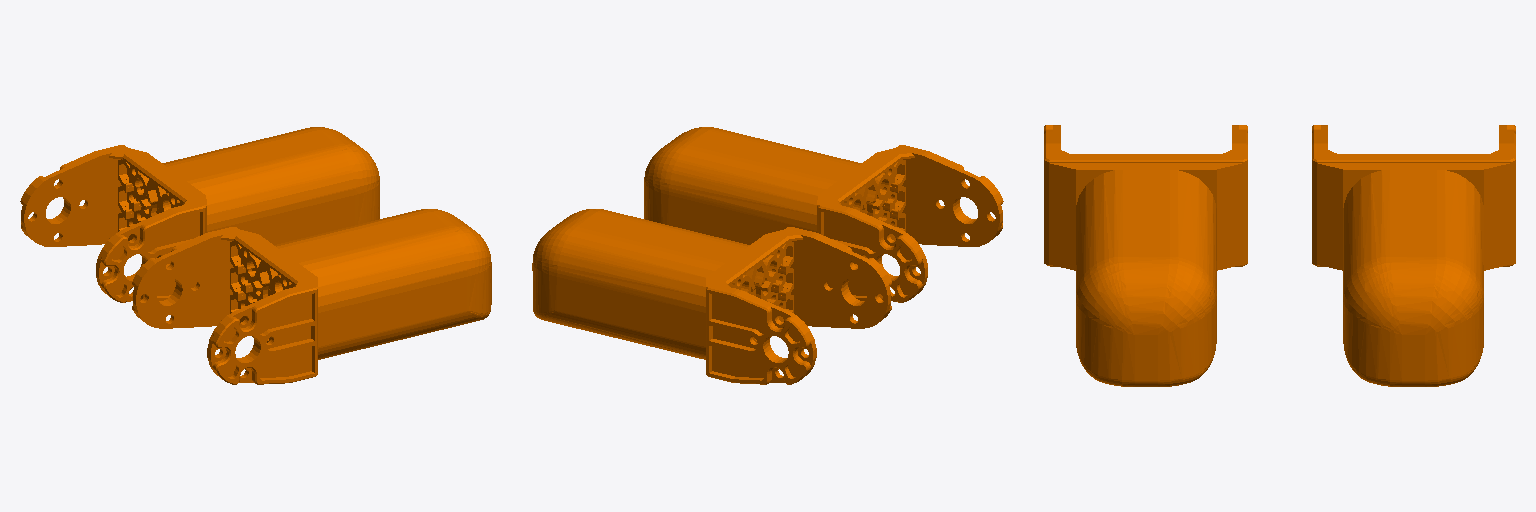
robot.urdf — onshape:
<robot name="onshape">
  <link name="palm_lower">
    <inertial>
      <origin xyz="0.0 0.0 0.0" rpy="0.0 -0.0 0.0"/>
      <mass value="0.237"/>
      <inertia ixx="0.000354094" ixy="-1.193e-06" ixz="-2.445e-06" iyy="0.000260915" iyz="-2.905e-06" izz="0.000529257"/>
    </inertial>
    <visual>
      <geometry>
        <mesh filename="../assets/leap/leap_hand/palm_lower.stl"/>
      </geometry>
      <origin xyz="-0.020095249652862544 0.025757756134899473 -0.034722403578460216" rpy="0.0 -0.0 0.0"/>
      <material name="palm_lower_material">
        <color rgba="0.6039215686274509 0.14901960784313725 0.14901960784313725 1.0"/>
      </material>
    </visual>
    <collision>
      <geometry>
        <mesh filename="../assets/leap/leap_hand/palm_lower.stl"/>
      </geometry>
      <origin xyz="-0.020095249652862544 0.025757756134899473 -0.034722403578460216" rpy="0.0 -0.0 0.0"/>
    </collision>
  </link>
  <link name="mcp_joint">
    <inertial>
      <origin xyz="0.0 0.0 0.0" rpy="0.0 -0.0 0.0"/>
      <mass value="0.044"/>
      <inertia ixx="1.1499e-05" ixy="3.049e-06" ixz="1.21e-07" iyy="7.796e-06" iyz="1.12e-07" izz="1.4759e-05"/>
    </inertial>
    <visual>
      <geometry>
        <mesh filename="../assets/leap/leap_hand/mcp_joint.stl"/>
      </geometry>
      <origin xyz="0.008406902261174496 0.0077662438597169954 0.014657354985032912" rpy="1.6375789613221e-15 -1.021047330249102e-30 1.7177968783327987e-31"/>
      <material name="mcp_joint_material">
        <color rgba="0.8666666666666667 0.8666666666666667 0.050980392156862744 1.0"/>
      </material>
    </visual>
    <collision>
      <geometry>
        <mesh filename="../assets/leap/leap_hand/mcp_joint.stl"/>
      </geometry>
      <origin xyz="0.008406902261174496 0.0077662438597169954 0.014657354985032912" rpy="1.6375789613221e-15 -1.021047330249102e-30 1.7177968783327987e-31"/>
    </collision>
  </link>
  <link name="pip">
    <inertial>
      <origin xyz="0.0 0.0 0.0" rpy="0.0 -0.0 0.0"/>
      <mass value="0.032"/>
      <inertia ixx="4.798e-06" ixy="1.2e-08" ixz="4e-09" iyy="2.862e-06" iyz="1.1e-08" izz="4.234e-06"/>
    </inertial>
    <visual>
      <geometry>
        <mesh filename="../assets/leap/leap_hand/pip.stl"/>
      </geometry>
      <origin xyz="0.009643363092271328 0.0002999999999999895 0.0007840340104173765" rpy="-1.5707963267948966 -1.5707963267948963 0.0"/>
      <material name="pip_material">
        <color rgba="0.7490196078431373 0.7490196078431373 0.7490196078431373 1.0"/>
      </material>
    </visual>
    <collision>
      <geometry>
        <mesh filename="../assets/leap/leap_hand/pip.stl"/>
      </geometry>
      <origin xyz="0.009643363092271328 0.0002999999999999895 0.0007840340104173765" rpy="-1.5707963267948966 -1.5707963267948963 0.0"/>
    </collision>
  </link>
  <link name="dip">
    <inertial>
      <origin xyz="0.0 0.0 0.0" rpy="0.0 -0.0 0.0"/>
      <mass value="0.037"/>
      <inertia ixx="5.542e-06" ixy="-6.07e-07" ixz="-1.7e-08" iyy="5.727e-06" iyz="-2.3e-08" izz="6.682e-06"/>
    </inertial>
    <visual>
      <geometry>
        <mesh filename="../assets/leap/leap_hand/dip.stl"/>
      </geometry>
      <origin xyz="0.021133352895225003 -0.00843211914670488 0.00978508816209524" rpy="-3.141592653589793 4.507511124216441e-32 4.439548105392361e-32"/>
      <material name="dip_material">
        <color rgba="0.8666666666666667 0.8666666666666667 0.050980392156862744 1.0"/>
      </material>
    </visual>
    <collision>
      <geometry>
        <mesh filename="../assets/leap/leap_hand/dip.stl"/>
      </geometry>
      <origin xyz="0.021133352895225003 -0.00843211914670488 0.00978508816209524" rpy="-3.141592653589793 4.507511124216441e-32 4.439548105392361e-32"/>
    </collision>
  </link>
  <link name="fingertip_long">
    <inertial>
      <origin xyz="0.0 0.0 0.0" rpy="0.0 -0.0 0.0"/>
      <mass value="0.016"/>
      <inertia ixx="3.368e-06" ixy="1.15e-07" ixz="0.0" iyy="1.556e-06" iyz="0.0" izz="2.863e-06"/>
    </inertial>
    <visual>
      <geometry>
        <mesh filename="custom_models/fingertip_long.stl"/>
      </geometry>
      <origin xyz="0.013286424108533503 -0.006114238386541987 0.014499999999999498" rpy="3.141592653589793 1.1993117970061735e-33 4.439548105392361e-32"/>
      <material name="fingertip_material">
        <color rgba="0.878 0.467 0.0 1.0"/>
      </material>
    </visual>
    <collision>
      <geometry>
        <mesh filename="custom_models/fingertip_long.stl"/>
      </geometry>
      <origin xyz="0.013286424108533503 -0.006114238386541987 0.014499999999999498" rpy="3.141592653589793 1.1993117970061735e-33 4.439548105392361e-32"/>
    </collision>
  </link>
  <link name="pip_4">
    <inertial>
      <origin xyz="0.0 0.0 0.0" rpy="0.0 -0.0 0.0"/>
      <mass value="0.032"/>
      <inertia ixx="4.798e-06" ixy="1.2e-08" ixz="4e-09" iyy="2.862e-06" iyz="1.1e-08" izz="4.234e-06"/>
    </inertial>
    <visual>
      <geometry>
        <mesh filename="../assets/leap/leap_hand/pip.stl"/>
      </geometry>
      <origin xyz="-0.005356636907728671 0.0002999999999999999 0.0007840340104173782" rpy="-1.5707963267948966 -1.5707963267948963 0.0"/>
      <material name="pip_material">
        <color rgba="0.7490196078431373 0.7490196078431373 0.7490196078431373 1.0"/>
      </material>
    </visual>
    <collision>
      <geometry>
        <mesh filename="../assets/leap/leap_hand/pip.stl"/>
      </geometry>
      <origin xyz="-0.005356636907728671 0.0002999999999999999 0.0007840340104173782" rpy="-1.5707963267948966 -1.5707963267948963 0.0"/>
    </collision>
  </link>
  <link name="thumb_pip">
    <inertial>
      <origin xyz="0.0 0.0 0.0" rpy="0.0 -0.0 0.0"/>
      <mass value="0.003"/>
      <inertia ixx="5.93e-07" ixy="0.0" ixz="0.0" iyy="5.49e-07" iyz="0.0" izz="2.24e-07"/>
    </inertial>
    <visual>
      <geometry>
        <mesh filename="../assets/leap/leap_hand/thumb_pip.stl"/>
      </geometry>
      <origin xyz="0.011961920770611187 -5.30825383648903e-16 -0.0158526489566642" rpy="1.5707963267948966 1.6050198443300153e-46 -3.9204996250525193e-59"/>
      <material name="thumb_pip_material">
        <color rgba="0.8666666666666667 0.8666666666666667 0.050980392156862744 1.0"/>
      </material>
    </visual>
    <collision>
      <geometry>
        <mesh filename="../assets/leap/leap_hand/thumb_pip.stl"/>
      </geometry>
      <origin xyz="0.011961920770611187 -5.30825383648903e-16 -0.0158526489566642" rpy="1.5707963267948966 1.6050198443300153e-46 -3.9204996250525193e-59"/>
    </collision>
  </link>
  <link name="thumb_dip">
    <inertial>
      <origin xyz="0.0 0.0 0.0" rpy="0.0 -0.0 0.0"/>
      <mass value="0.038"/>
      <inertia ixx="8.474e-06" ixy="2.41e-07" ixz="2.6e-08" iyy="3.841e-06" iyz="2.5e-08" izz="7.679e-06"/>
    </inertial>
    <visual>
      <geometry>
        <mesh filename="../assets/leap/leap_hand/thumb_dip.stl"/>
      </geometry>
      <origin xyz="0.043968715707239175 0.0579529529737092 -0.008628676449369476" rpy="1.94289029309401e-16 3.27515792264422e-15 1.112375852965736e-46"/>
      <material name="thumb_dip_material">
        <color rgba="0.8666666666666667 0.8666666666666667 0.050980392156862744 1.0"/>
      </material>
    </visual>
    <collision>
      <geometry>
        <mesh filename="../assets/leap/leap_hand/thumb_dip.stl"/>
      </geometry>
      <origin xyz="0.043968715707239175 0.0579529529737092 -0.008628676449369476" rpy="1.94289029309401e-16 3.27515792264422e-15 1.112375852965736e-46"/>
    </collision>
  </link>
  <link name="thumb_fingertip">
    <inertial>
      <origin xyz="0.0 0.0 0.0" rpy="0.0 -0.0 0.0"/>
      <mass value="0.049"/>
      <inertia ixx="2.0372e-05" ixy="-4.89e-07" ixz="-3e-08" iyy="4.336e-06" iyz="-9.7e-08" izz="1.9845e-05"/>
    </inertial>
    <visual>
      <geometry>
        <mesh filename="../assets/leap/leap_hand/thumb_fingertip.stl"/>
      </geometry>
      <origin xyz="0.06255953846266739 0.07845968291139699 0.048992911807332215" rpy="4.379057701015637e-47 -3.33066907387547e-16 1.2042408677791935e-46"/>
      <material name="thumb_fingertip_material">
        <color rgba="0.6039215686274509 0.14901960784313725 0.14901960784313725 1.0"/>
      </material>
    </visual>
    <collision>
      <geometry>
        <mesh filename="../assets/leap/leap_hand/thumb_fingertip.stl"/>
      </geometry>
      <origin xyz="0.06255953846266739 0.07845968291139699 0.048992911807332215" rpy="4.379057701015637e-47 -3.33066907387547e-16 1.2042408677791935e-46"/>
    </collision>
  </link>
  <link name="mcp_joint_2">
    <inertial>
      <origin xyz="0.0 0.0 0.0" rpy="0.0 -0.0 0.0"/>
      <mass value="0.044"/>
      <inertia ixx="1.1499e-05" ixy="3.049e-06" ixz="1.21e-07" iyy="7.796e-06" iyz="1.12e-07" izz="1.4759e-05"/>
    </inertial>
    <visual>
      <geometry>
        <mesh filename="../assets/leap/leap_hand/mcp_joint.stl"/>
      </geometry>
      <origin xyz="0.008406902261174496 0.0077662438597169954 0.014657354985032914" rpy="1.6375789613221e-15 -1.0076465469034e-30 2.1209300131419907e-61"/>
      <material name="mcp_joint_material">
        <color rgba="0.8666666666666667 0.8666666666666667 0.050980392156862744 1.0"/>
      </material>
    </visual>
    <collision>
      <geometry>
        <mesh filename="../assets/leap/leap_hand/mcp_joint.stl"/>
      </geometry>
      <origin xyz="0.008406902261174496 0.0077662438597169954 0.014657354985032914" rpy="1.6375789613221e-15 -1.0076465469034e-30 2.1209300131419907e-61"/>
    </collision>
  </link>
  <link name="pip_2">
    <inertial>
      <origin xyz="0.0 0.0 0.0" rpy="0.0 -0.0 0.0"/>
      <mass value="0.032"/>
      <inertia ixx="4.798e-06" ixy="1.2e-08" ixz="4e-09" iyy="2.862e-06" iyz="1.1e-08" izz="4.234e-06"/>
    </inertial>
    <visual>
      <geometry>
        <mesh filename="../assets/leap/leap_hand/pip.stl"/>
      </geometry>
      <origin xyz="0.009643363092271328 0.0002999999999999947 0.0007840340104173765" rpy="-1.5707963267948966 -1.5707963267948963 0.0"/>
      <material name="pip_material">
        <color rgba="0.7490196078431373 0.7490196078431373 0.7490196078431373 1.0"/>
      </material>
    </visual>
    <collision>
      <geometry>
        <mesh filename="../assets/leap/leap_hand/pip.stl"/>
      </geometry>
      <origin xyz="0.009643363092271328 0.0002999999999999947 0.0007840340104173765" rpy="-1.5707963267948966 -1.5707963267948963 0.0"/>
    </collision>
  </link>
  <link name="dip_2">
    <inertial>
      <origin xyz="0.0 0.0 0.0" rpy="0.0 -0.0 0.0"/>
      <mass value="0.037"/>
      <inertia ixx="5.542e-06" ixy="-6.07e-07" ixz="-1.7e-08" iyy="5.727e-06" iyz="-2.3e-08" izz="6.682e-06"/>
    </inertial>
    <visual>
      <geometry>
        <mesh filename="../assets/leap/leap_hand/dip.stl"/>
      </geometry>
      <origin xyz="0.021133352895225003 -0.008432119146704865 0.009785088162095237" rpy="-3.141592653589793 2.1146933785271956e-32 1.4408183216511869e-31"/>
      <material name="dip_material">
        <color rgba="0.8666666666666667 0.8666666666666667 0.050980392156862744 1.0"/>
      </material>
    </visual>
    <collision>
      <geometry>
        <mesh filename="../assets/leap/leap_hand/dip.stl"/>
      </geometry>
      <origin xyz="0.021133352895225003 -0.008432119146704865 0.009785088162095237" rpy="-3.141592653589793 2.1146933785271956e-32 1.4408183216511869e-31"/>
    </collision>
  </link>
  <link name="fingertip_2_long">
    <inertial>
      <origin xyz="0.0 0.0 0.0" rpy="0.0 -0.0 0.0"/>
      <mass value="0.016"/>
      <inertia ixx="3.368e-06" ixy="1.15e-07" ixz="0.0" iyy="1.556e-06" iyz="0.0" izz="2.863e-06"/>
    </inertial>
    <visual>
      <geometry>
        <mesh filename="custom_models/fingertip_long.stl"/>
      </geometry>
      <origin xyz="0.013286424108533496 -0.006114238386542001 0.014499999999999496" rpy="3.141592653589793 -4.317959788283594e-33 1.4408183216511869e-31"/>
      <material name="fingertip_material">
        <color rgba="0.878 0.467 0.0 1.0"/>
      </material>
    </visual>
    <collision>
      <geometry>
        <mesh filename="custom_models/fingertip_long.stl"/>
      </geometry>
      <origin xyz="0.013286424108533496 -0.006114238386542001 0.014499999999999496" rpy="3.141592653589793 -4.317959788283594e-33 1.4408183216511869e-31"/>
    </collision>
  </link>
  <link name="mcp_joint_3">
    <inertial>
      <origin xyz="0.0 0.0 0.0" rpy="0.0 -0.0 0.0"/>
      <mass value="0.044"/>
      <inertia ixx="1.1499e-05" ixy="3.049e-06" ixz="1.21e-07" iyy="7.796e-06" iyz="1.12e-07" izz="1.4759e-05"/>
    </inertial>
    <visual>
      <geometry>
        <mesh filename="../assets/leap/leap_hand/mcp_joint.stl"/>
      </geometry>
      <origin xyz="0.0084069022611745 0.007766243859716996 0.014657354985032914" rpy="1.6375789613221e-15 -1.0059504988632627e-30 5.729641584552035e-32"/>
      <material name="mcp_joint_material">
        <color rgba="0.8666666666666667 0.8666666666666667 0.050980392156862744 1.0"/>
      </material>
    </visual>
    <collision>
      <geometry>
        <mesh filename="../assets/leap/leap_hand/mcp_joint.stl"/>
      </geometry>
      <origin xyz="0.0084069022611745 0.007766243859716996 0.014657354985032914" rpy="1.6375789613221e-15 -1.0059504988632627e-30 5.729641584552035e-32"/>
    </collision>
  </link>
  <link name="pip_3">
    <inertial>
      <origin xyz="0.0 0.0 0.0" rpy="0.0 -0.0 0.0"/>
      <mass value="0.032"/>
      <inertia ixx="4.798e-06" ixy="1.2e-08" ixz="4e-09" iyy="2.862e-06" iyz="1.1e-08" izz="4.234e-06"/>
    </inertial>
    <visual>
      <geometry>
        <mesh filename="../assets/leap/leap_hand/pip.stl"/>
      </geometry>
      <origin xyz="0.009643363092271331 0.00029999999999998084 0.0007840340104173765" rpy="-1.5707963267948966 -1.5707963267948963 0.0"/>
      <material name="pip_material">
        <color rgba="0.7490196078431373 0.7490196078431373 0.7490196078431373 1.0"/>
      </material>
    </visual>
    <collision>
      <geometry>
        <mesh filename="../assets/leap/leap_hand/pip.stl"/>
      </geometry>
      <origin xyz="0.009643363092271331 0.00029999999999998084 0.0007840340104173765" rpy="-1.5707963267948966 -1.5707963267948963 0.0"/>
    </collision>
  </link>
  <link name="dip_3">
    <inertial>
      <origin xyz="0.0 0.0 0.0" rpy="0.0 -0.0 0.0"/>
      <mass value="0.037"/>
      <inertia ixx="5.542e-06" ixy="-6.07e-07" ixz="-1.7e-08" iyy="5.727e-06" iyz="-2.3e-08" izz="6.682e-06"/>
    </inertial>
    <visual>
      <geometry>
        <mesh filename="../assets/leap/leap_hand/dip.stl"/>
      </geometry>
      <origin xyz="0.021133352895225006 -0.008432119146704865 0.009785088162095237" rpy="-3.141592653589793 -1.4095651113919093e-33 1.5565411607615035e-32"/>
      <material name="dip_material">
        <color rgba="0.8666666666666667 0.8666666666666667 0.050980392156862744 1.0"/>
      </material>
    </visual>
    <collision>
      <geometry>
        <mesh filename="../assets/leap/leap_hand/dip.stl"/>
      </geometry>
      <origin xyz="0.021133352895225006 -0.008432119146704865 0.009785088162095237" rpy="-3.141592653589793 -1.4095651113919093e-33 1.5565411607615035e-32"/>
    </collision>
  </link>
  <link name="fingertip_3">
    <inertial>
      <origin xyz="0.0 0.0 0.0" rpy="0.0 -0.0 0.0"/>
      <mass value="0.016"/>
      <inertia ixx="3.368e-06" ixy="1.15e-07" ixz="0.0" iyy="1.556e-06" iyz="0.0" izz="2.863e-06"/>
    </inertial>
    <visual>
      <geometry>
        <mesh filename="../assets/leap/leap_hand/fingertip.stl"/>
      </geometry>
      <origin xyz="0.013286424108533501 -0.006114238386541987 0.0144999999999995" rpy="3.141592653589793 8.61707169505754e-33 1.5565411607615035e-32"/>
      <material name="fingertip_material">
        <color rgba="0.8666666666666667 0.8666666666666667 0.050980392156862744 1.0"/>
      </material>
    </visual>
    <collision>
      <geometry>
        <mesh filename="../assets/leap/leap_hand/fingertip.stl"/>
      </geometry>
      <origin xyz="0.013286424108533501 -0.006114238386541987 0.0144999999999995" rpy="3.141592653589793 8.61707169505754e-33 1.5565411607615035e-32"/>
    </collision>
  </link>
  <joint name="1" type="revolute">
    <parent link="palm_lower"/>
    <child link="mcp_joint"/>
    <origin xyz="-0.007095249652862546 0.023057756134899472 -0.01872240357846022" rpy="1.570796326794895 1.5707963267948946 0.0"/>
    <axis xyz="0.0 0.0 -1.0"/>
    <limit effort="0.95" velocity="8.48" lower="-0.314" upper="2.23"/>
  </joint>
  <joint name="0" type="revolute">
    <parent link="mcp_joint"/>
    <child link="pip"/>
    <origin xyz="-0.012200000000000008 0.038099999999999995 0.0145" rpy="-1.5707963267948966 -1.0065212660796337e-15 1.5707963267948943"/>
    <axis xyz="0.0 0.0 -1.0"/>
    <limit effort="0.95" velocity="8.48" lower="-1.047" upper="1.047"/>
  </joint>
  <joint name="2" type="revolute">
    <parent link="pip"/>
    <child link="dip"/>
    <origin xyz="0.014999999999999968 0.014299999999999905 -0.012999999999999824" rpy="1.570796326794896 -1.5707963267948963 0.0"/>
    <axis xyz="0.0 0.0 -1.0"/>
    <limit effort="0.95" velocity="8.48" lower="-0.506" upper="1.885"/>
  </joint>
  <joint name="3" type="revolute">
    <parent link="dip"/>
    <child link="fingertip_long"/>
    <origin xyz="-4.088058249557269e-09 -0.03610000421036737 0.0002000000000000786" rpy="4.5935029425113685e-17 -2.8730071914463795e-16 4.439548105392361e-32"/>
    <axis xyz="0.0 0.0 -1.0"/>
    <limit effort="0.95" velocity="8.48" lower="-0.366" upper="2.042"/>
  </joint>
  <joint name="12" type="revolute">
    <parent link="palm_lower"/>
    <child link="pip_4"/>
    <origin xyz="-0.06939524965286253 -0.0012422438651005258 -0.021622403578460216" rpy="-8.238176646493942e-17 1.5707963267948957 0.0"/>
    <axis xyz="0.0 0.0 -1.0"/>
    <limit effort="0.95" velocity="8.48" lower="-0.349" upper="2.094"/>
  </joint>
  <joint name="13" type="revolute">
    <parent link="pip_4"/>
    <child link="thumb_pip"/>
    <origin xyz="-2.7755575615628914e-17 0.014300000000000005 -0.013000000000000012" rpy="1.570796326794896 -1.5707963267948963 0.0"/>
    <axis xyz="0.0 0.0 -1.0"/>
    <limit effort="0.95" velocity="8.48" lower="-0.47" upper="2.443"/>
  </joint>
  <joint name="14" type="revolute">
    <parent link="thumb_pip"/>
    <child link="thumb_dip"/>
    <origin xyz="0.0 0.014499999999999966 -0.017000000000000053" rpy="-1.5707963267948966 1.6050198443300131e-46 -1.9721522630516625e-31"/>
    <axis xyz="0.0 0.0 -1.0"/>
    <limit effort="0.95" velocity="8.48" lower="-1.2" upper="1.9"/>
  </joint>
  <joint name="15" type="revolute">
    <parent link="thumb_dip"/>
    <child link="thumb_fingertip"/>
    <origin xyz="-1.249000902703301e-16 0.046599999999999864 0.0001999999999999771" rpy="1.506395849149178e-44 5.423418723393526e-31 3.141592653589793"/>
    <axis xyz="0.0 0.0 -1.0"/>
    <limit effort="0.95" velocity="8.48" lower="-1.34" upper="1.88"/>
  </joint>
  <joint name="5" type="revolute">
    <parent link="palm_lower"/>
    <child link="mcp_joint_2"/>
    <origin xyz="-0.007095249652862546 -0.022392243865100525 -0.01872240357846022" rpy="1.570796326794895 1.5707963267948946 0.0"/>
    <axis xyz="0.0 0.0 -1.0"/>
    <limit effort="0.95" velocity="8.48" lower="-0.314" upper="2.23"/>
  </joint>
  <joint name="4" type="revolute">
    <parent link="mcp_joint_2"/>
    <child link="pip_2"/>
    <origin xyz="-0.012200000000000008 0.038099999999999995 0.0145" rpy="-1.5707963267948966 -1.0065212660796337e-15 1.5707963267948943"/>
    <axis xyz="0.0 0.0 -1.0"/>
    <limit effort="0.95" velocity="8.48" lower="-1.047" upper="1.047"/>
  </joint>
  <joint name="6" type="revolute">
    <parent link="pip_2"/>
    <child link="dip_2"/>
    <origin xyz="0.014999999999999968 0.014299999999999905 -0.012999999999999824" rpy="1.570796326794896 -1.5707963267948963 0.0"/>
    <axis xyz="0.0 0.0 -1.0"/>
    <limit effort="0.95" velocity="8.48" lower="-0.506" upper="1.885"/>
  </joint>
  <joint name="7" type="revolute">
    <parent link="dip_2"/>
    <child link="fingertip_2_long"/>
    <origin xyz="-4.088058249557269e-09 -0.03610000421036737 0.0002000000000000786" rpy="4.5935029425113685e-17 -2.8730071914463795e-16 4.439548105392361e-32"/>
    <axis xyz="0.0 0.0 -1.0"/>
    <limit effort="0.95" velocity="8.48" lower="-0.366" upper="2.042"/>
  </joint>
  <joint name="9" type="revolute">
    <parent link="palm_lower"/>
    <child link="mcp_joint_3"/>
    <origin xyz="-0.007095249652862546 -0.06784224386510052 -0.01872240357846022" rpy="1.570796326794895 1.5707963267948946 0.0"/>
    <axis xyz="0.0 0.0 -1.0"/>
    <limit effort="0.95" velocity="8.48" lower="-0.314" upper="2.23"/>
  </joint>
  <joint name="8" type="revolute">
    <parent link="mcp_joint_3"/>
    <child link="pip_3"/>
    <origin xyz="-0.012200000000000008 0.038099999999999995 0.0145" rpy="-1.5707963267948966 -1.0065212660796337e-15 1.5707963267948943"/>
    <axis xyz="0.0 0.0 -1.0"/>
    <limit effort="0.95" velocity="8.48" lower="-1.047" upper="1.047"/>
  </joint>
  <joint name="10" type="revolute">
    <parent link="pip_3"/>
    <child link="dip_3"/>
    <origin xyz="0.014999999999999968 0.014299999999999905 -0.012999999999999824" rpy="1.570796326794896 -1.5707963267948963 0.0"/>
    <axis xyz="0.0 0.0 -1.0"/>
    <limit effort="0.95" velocity="8.48" lower="-0.506" upper="1.885"/>
  </joint>
  <joint name="11" type="revolute">
    <parent link="dip_3"/>
    <child link="fingertip_3"/>
    <origin xyz="-4.088058249557269e-09 -0.03610000421036737 0.0002000000000000786" rpy="4.5935029425113685e-17 -2.8730071914463795e-16 4.439548105392361e-32"/>
    <axis xyz="0.0 0.0 -1.0"/>
    <limit effort="0.95" velocity="8.48" lower="-0.366" upper="2.042"/>
  </joint>
</robot>

--- What the picture shows (computed from the rendered views, not written in the file) ---
3 views of the same robot in one strip: view 1: azimuth 30°, elevation 25°; view 2: azimuth 150°, elevation 25°; view 3: azimuth 270°, elevation 25° (orthographic).
Robot: onshape — 17 links, 16 joints (16 revolute); root link palm_lower; default pose: all joints at 0.
Visible links, largest first — view 1: fingertip_2_long, fingertip_long; view 2: fingertip_long, fingertip_2_long; view 3: fingertip_long, fingertip_2_long.
Boxes of the visible links, x1=… form: fingertip_2_long: x1=132, y1=209, x2=491, y2=384; fingertip_long: x1=20, y1=127, x2=379, y2=302; fingertip_long: x1=532, y1=209, x2=891, y2=384; fingertip_2_long: x1=644, y1=127, x2=1003, y2=302; fingertip_long: x1=1312, y1=125, x2=1515, y2=386; fingertip_2_long: x1=1044, y1=125, x2=1247, y2=386.
Size in the robot's own frame: 0.0724 by 0.08 by 0.0211 metres.
Meshes: 9 distinct files referenced, 2 mesh visuals loaded (1 binary STL); not drawn: 15 (reference not matched to a file when rendering).